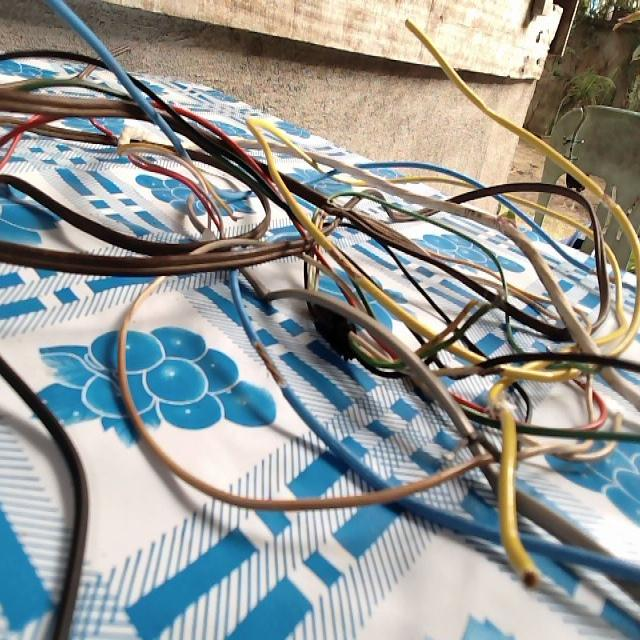-: (250, 336, 290, 388), (326, 243, 359, 280), (521, 565, 539, 592)
